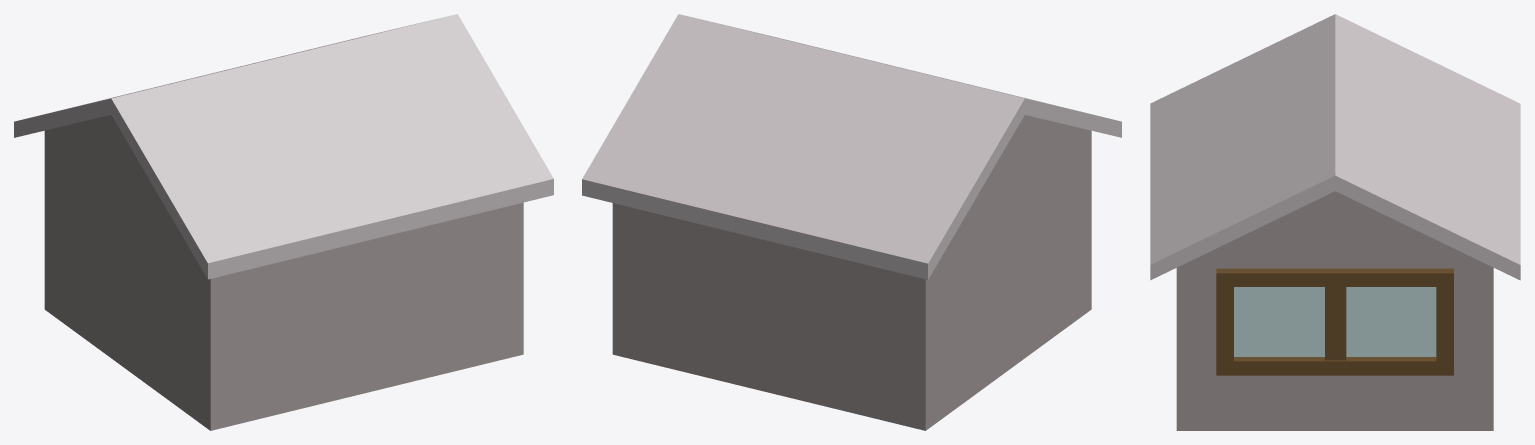
File: roof_window_2_2.fbx
The picture shows the model from 3 angles, left to right: view 1: azimuth 30°, elevation 25°; view 2: azimuth 150°, elevation 25°; view 3: azimuth 270°, elevation 25°; orthographic projection. The views are drawn at different scales.
Visible parts, largest first — view 1: roof_window_2_2; view 2: roof_window_2_2; view 3: roof_window_2_2.
Part boxes in pixels (x1,y1,x2,y2): roof_window_2_2: [14, 14, 553, 430]; roof_window_2_2: [582, 14, 1121, 430]; roof_window_2_2: [1150, 14, 1520, 430].
Size of the model in its own units: 361 by 274 by 349.
